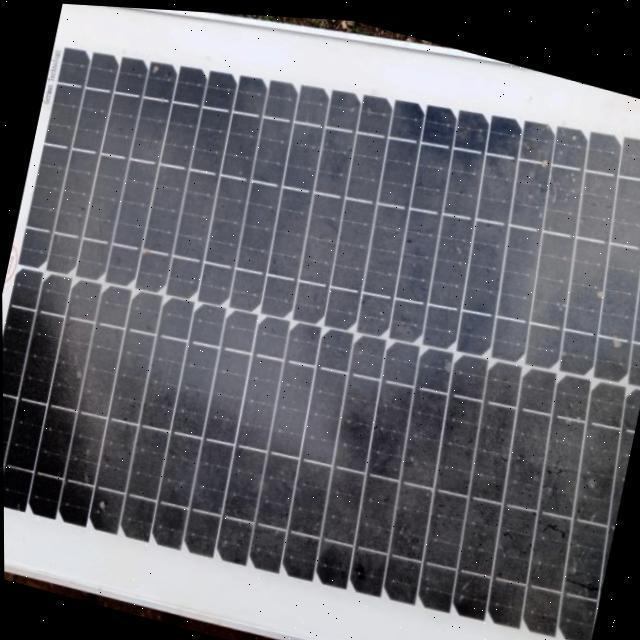Surface Contaminant: (49, 29, 640, 640)
